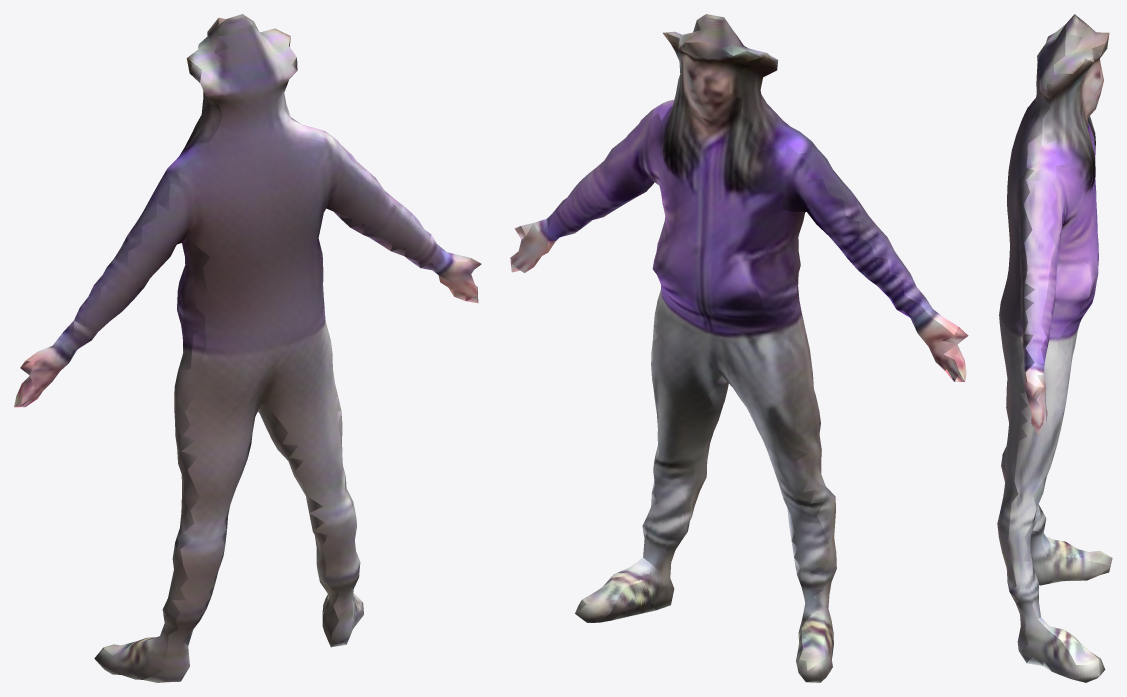
3 renders of one model, left to right at view 1: azimuth 30°, elevation 25°; view 2: azimuth 150°, elevation 25°; view 3: azimuth 270°, elevation 25°, orthographic. The views are drawn at different scales.
Parts seen in each view (by area): view 1: world; view 2: world; view 3: world.
Part boxes in pixels (<box>): world: <box>14,14,481,682</box>; world: <box>510,14,968,682</box>; world: <box>997,14,1112,682</box>.
Size of the model in its own units: 0.7558 by 0.9944 by 0.1709.
1 material, 1 textured.
